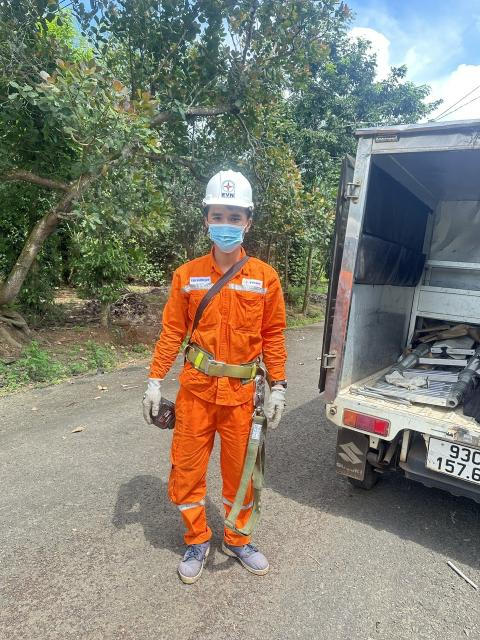gloves: (117, 369, 171, 424), (268, 374, 287, 427)
harness: (188, 339, 269, 390)
helmet: (198, 168, 262, 218)
shoes: (223, 535, 270, 579), (178, 532, 211, 584)
